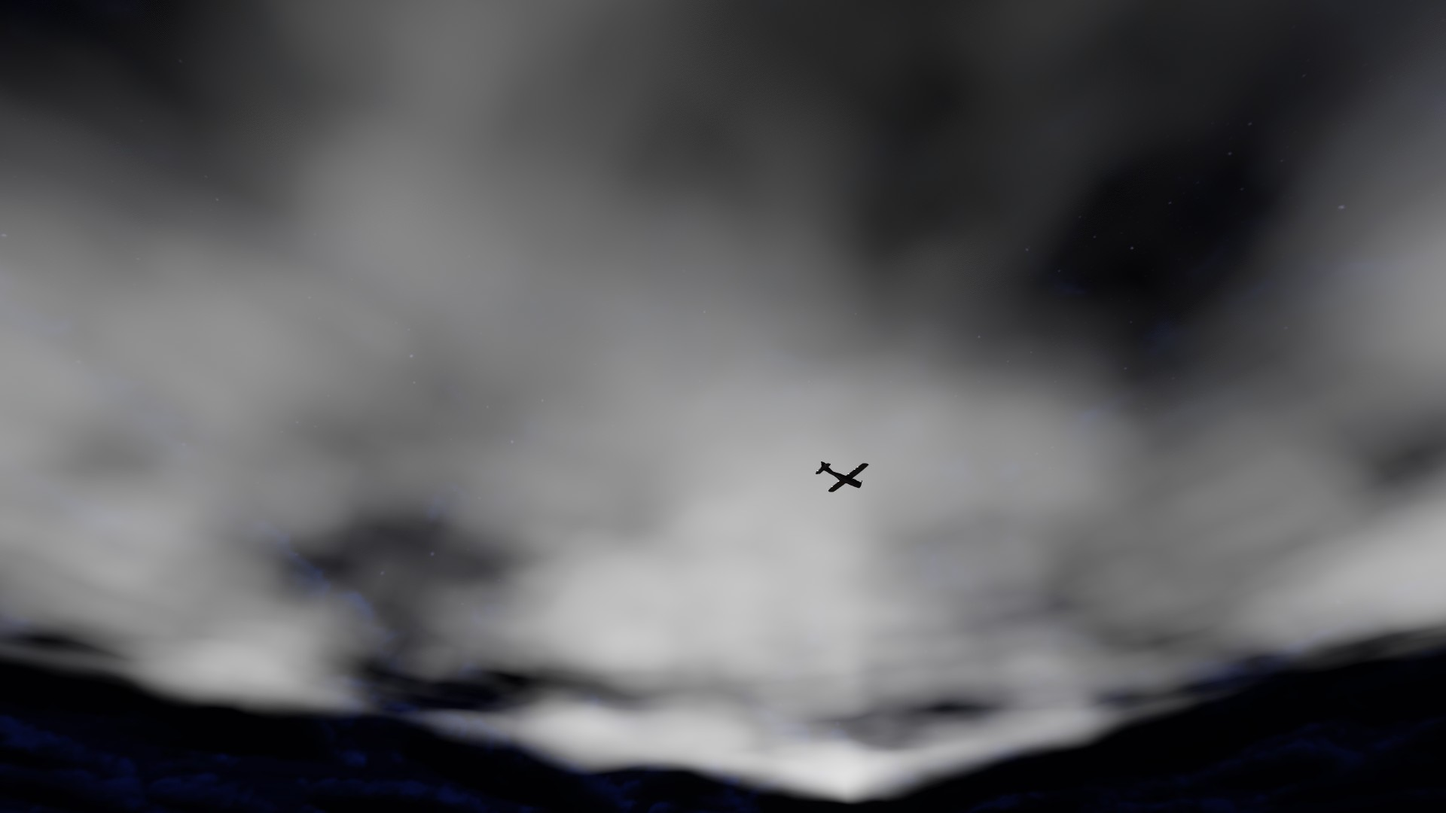drone_other: (815, 461, 869, 493)
